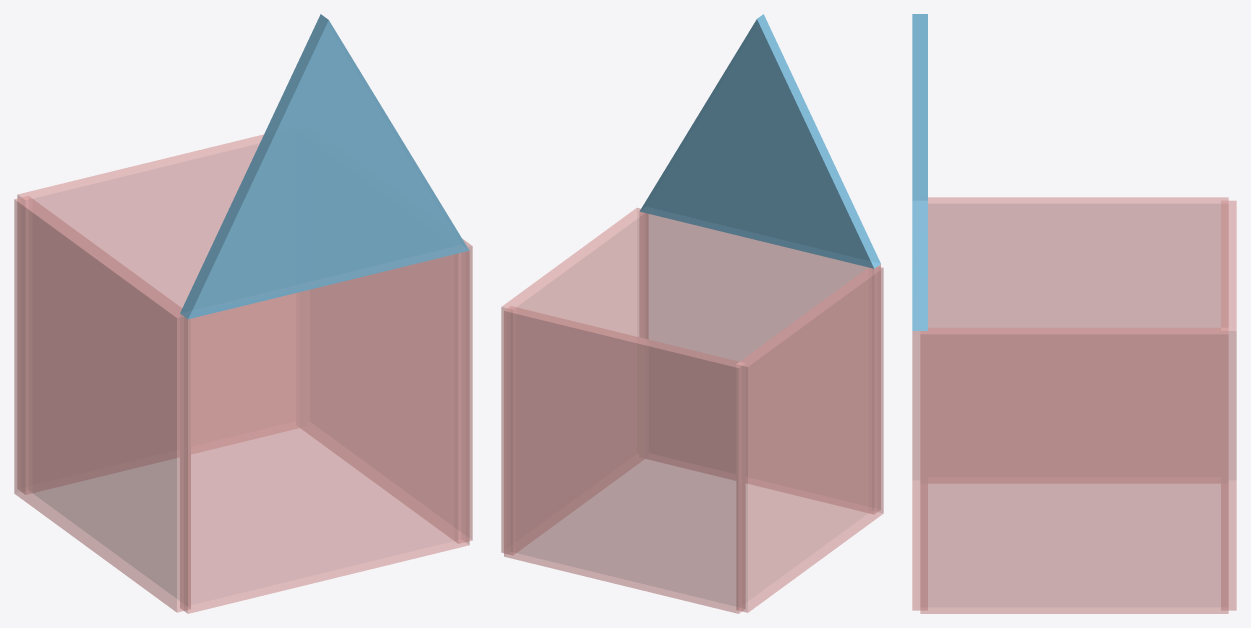
The model's file is casa_step6.glb.
3 views of the same model, side by side, from view 1: azimuth 30°, elevation 25°; view 2: azimuth 150°, elevation 25°; view 3: azimuth 270°, elevation 25° (orthographic). The views are drawn at different scales.
Visible parts, largest first — view 1: qN, qS, qW, gable_N, qE; view 2: qS, qN, qW, qE, gable_N; view 3: qE, qW, qS, gable_N, qN.
Part boxes in pixels (x1,y1,x2,y2): qN: [180, 251, 469, 613]; qS: [17, 134, 299, 494]; qW: [14, 196, 190, 612]; gable_N: [180, 14, 469, 319]; qE: [301, 239, 472, 543]; qS: [504, 306, 745, 613]; qN: [639, 212, 880, 514]; qW: [736, 266, 883, 612]; qE: [501, 208, 648, 554]; gable_N: [639, 14, 880, 268]; qE: [920, 327, 1228, 613]; qW: [928, 197, 1228, 483]; qS: [1221, 200, 1236, 610]; gable_N: [912, 14, 927, 330]; qN: [912, 331, 927, 610].
Size of the model in its own units: 1.05 by 1.9 by 1.05.
